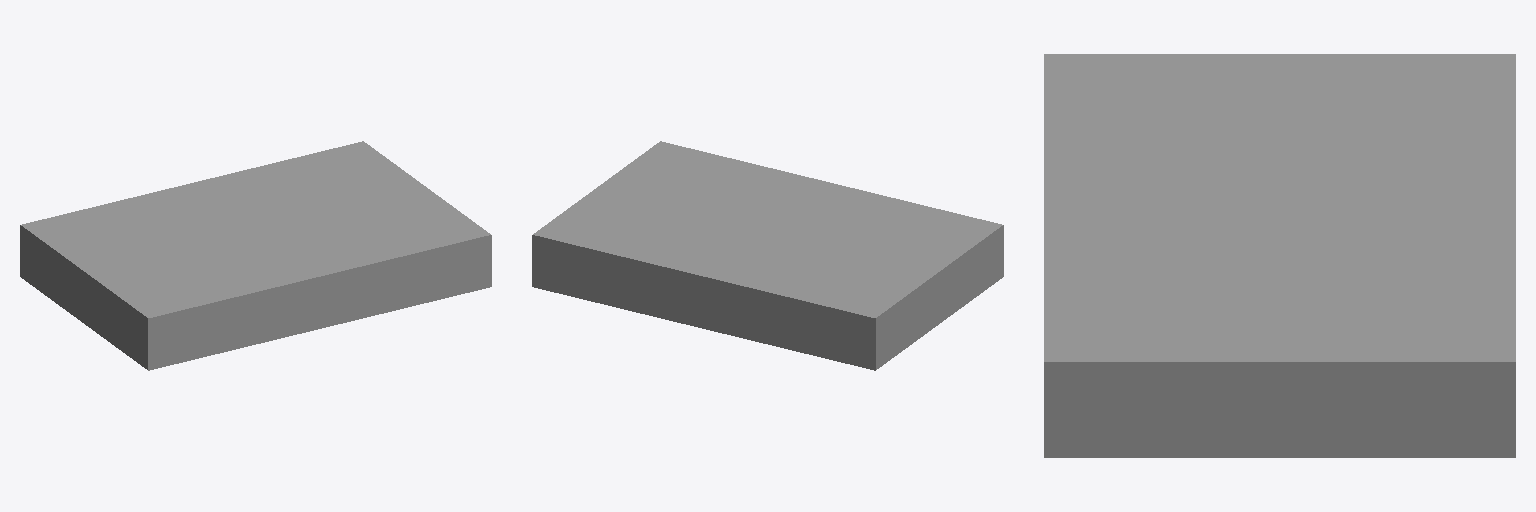
The robot description file, URDF, robot "support_beams.urdf":
<?xml version="1.0" ?>
<robot name="support_beams.urdf">
  <link name="support_beam_link">
    <contact>
      <lateral_friction value="0.12"/>
      <inertia_scaling value="1.0"/>
    </contact>
    <inertial>
      <origin rpy="0 0 0" xyz="0 0 0"/>
       <mass value="0.112"/>
       <inertia ixx="0.000166666667" ixy="0" ixz="0" iyy="0.000166666667" iyz="0" izz="0.000166666667"/>
    </inertial>
    <visual>
      <origin rpy="0 0 0" xyz="0 0 0"/>
      <geometry>
        <box size="0.3048 0.19685 0.04445" />
      </geometry>
       <material name="white">
        <color rgba="0.66 0.66 0.66 1"/>
      </material>
    </visual>
    <collision>
      <origin rpy="0 0 0" xyz="0 0 0"/>
      <geometry>
        <box size="0.3048 0.19685 0.04445"/>
      </geometry>
    </collision>
  </link>
  <joint name="support_joint" type="fixed">
    <parent link="world"/>
    <child link="support_beam_link"/>
    <origin rpy="0 0 0" xyz="0 0 0"/>
  </joint>
  <link name="world">
    <inertial>
      <origin rpy="0 0 0" xyz="0 0 0"/>
      <mass value="0.0"/>
      <inertia ixx="0.001" ixy="0.0" ixz="0.0" iyy="0.001" iyz="0.0" izz="0.001"/>
    </inertial>
  </link>
</robot>

--- Render facts (derived) ---
3 views of the same robot in one strip: view 1: azimuth 30°, elevation 25°; view 2: azimuth 150°, elevation 25°; view 3: azimuth 270°, elevation 25° (orthographic).
Robot: support_beams.urdf — 2 links, 1 joints (1 fixed); root link world; default pose: all joints at 0.
Links seen in each view (by area): view 1: support_beam_link; view 2: support_beam_link; view 3: support_beam_link.
Link boxes in pixels (left/top/right/bottom): support_beam_link: left=20, top=141, right=491, bottom=370; support_beam_link: left=532, top=141, right=1003, bottom=370; support_beam_link: left=1044, top=54, right=1515, bottom=457.
Bounding box of the posed robot: 0.3048 × 0.1969 × 0.0444 m (x, y, z).
Geometry: primitives only (box / cylinder / sphere), no mesh files.